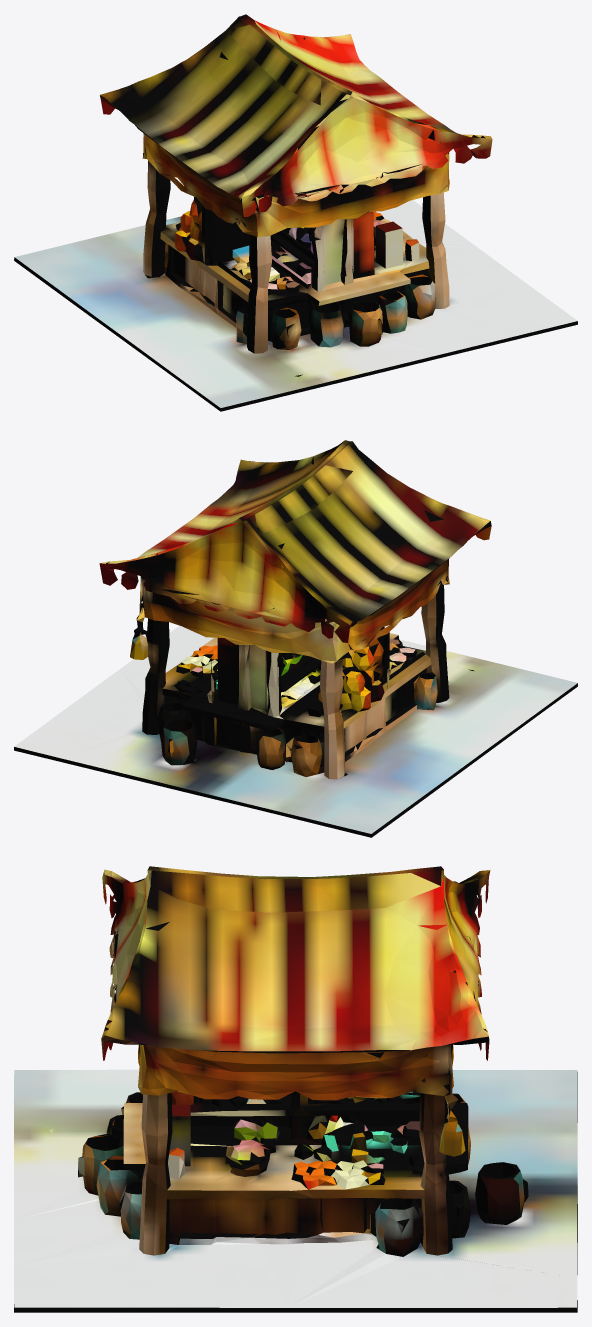
Rendered from stall2.glb.
The picture shows the model from 3 angles, top to bottom: view 1: azimuth 30°, elevation 25°; view 2: azimuth 150°, elevation 25°; view 3: azimuth 270°, elevation 25°; orthographic projection. The views are drawn at different scales.
Visible parts, largest first — view 1: stall2_LOW; view 2: stall2_LOW; view 3: stall2_LOW.
Boxes of the visible parts, x1=… form: stall2_LOW: x1=14, y1=14, x2=577, y2=411; stall2_LOW: x1=14, y1=440, x2=577, y2=837; stall2_LOW: x1=14, y1=866, x2=577, y2=1312.
Bounding box in the file's own units: 4.71 × 3 × 4.71.
Materials: 1 (1 with a texture image).
